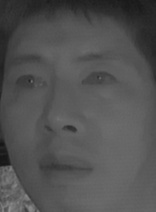eye: (80, 69, 120, 89), (12, 70, 50, 90)
mouth: (37, 150, 94, 184)
